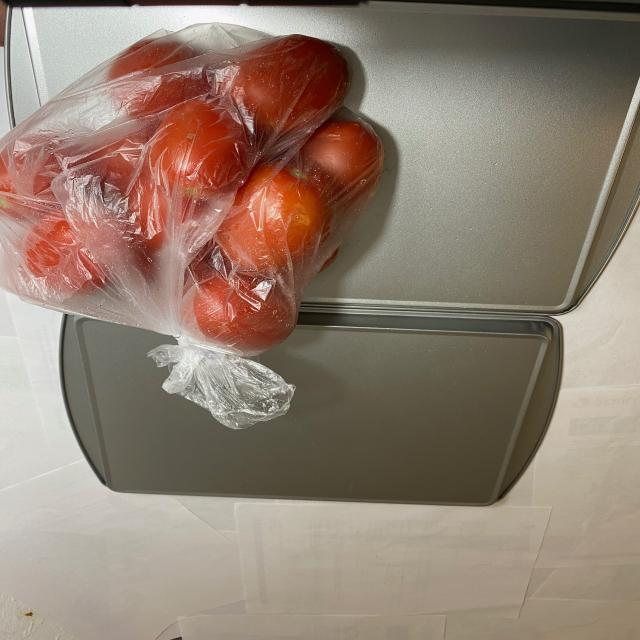tomato: (0, 18, 385, 355)
